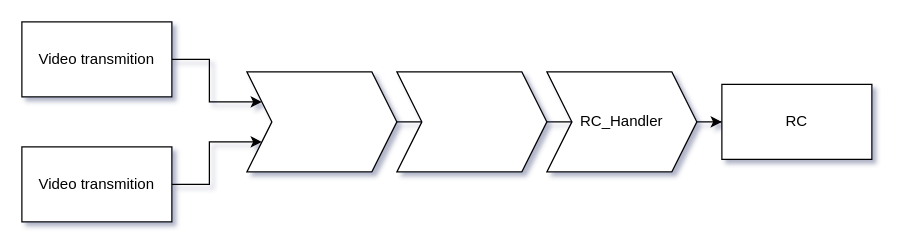
This 901x251 diagram has some shape labels left out. Each missing label, with the centre of its shape:
"TC_Handler" belongs at (x=321, y=121).
"Transcriptor" belongs at (x=471, y=121).
